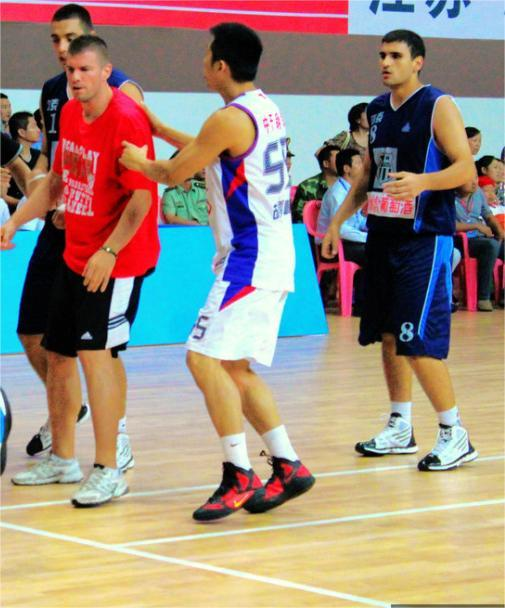up: (154, 20, 323, 523), (27, 31, 166, 512), (337, 26, 483, 478)
